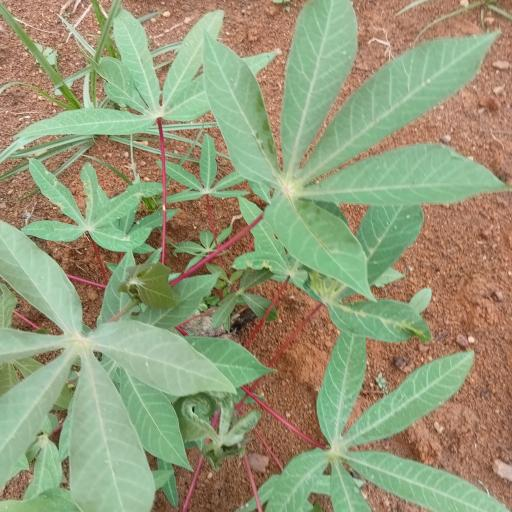Cassava_Mosaic: (200, 8, 496, 294), (2, 223, 215, 495), (271, 320, 512, 512)
